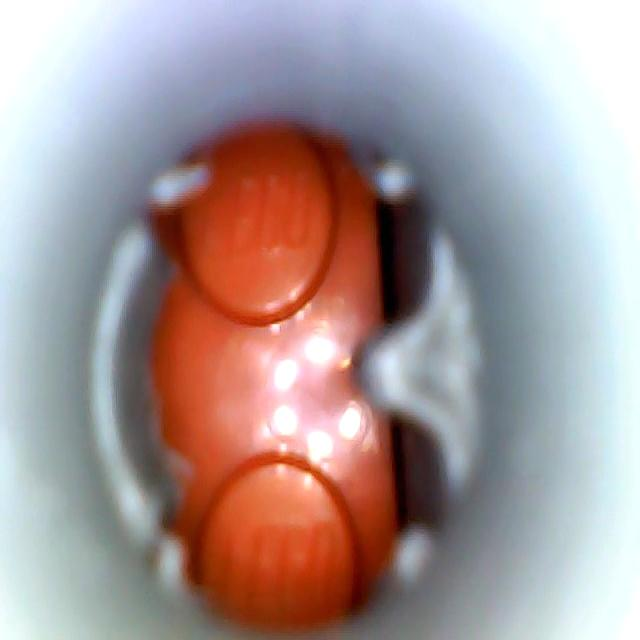studs: (181, 128, 336, 324), (199, 456, 358, 625)
